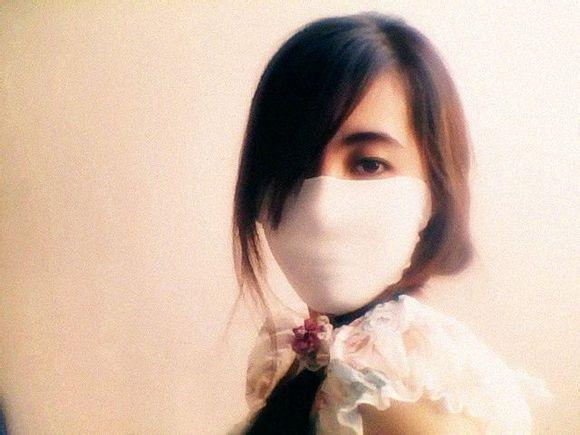OK: (259, 116, 428, 291)
